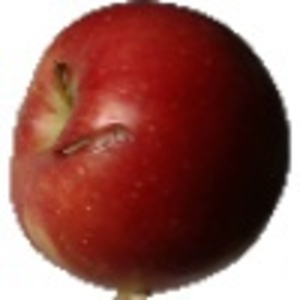maçã braeburn: (9, 1, 289, 292)
